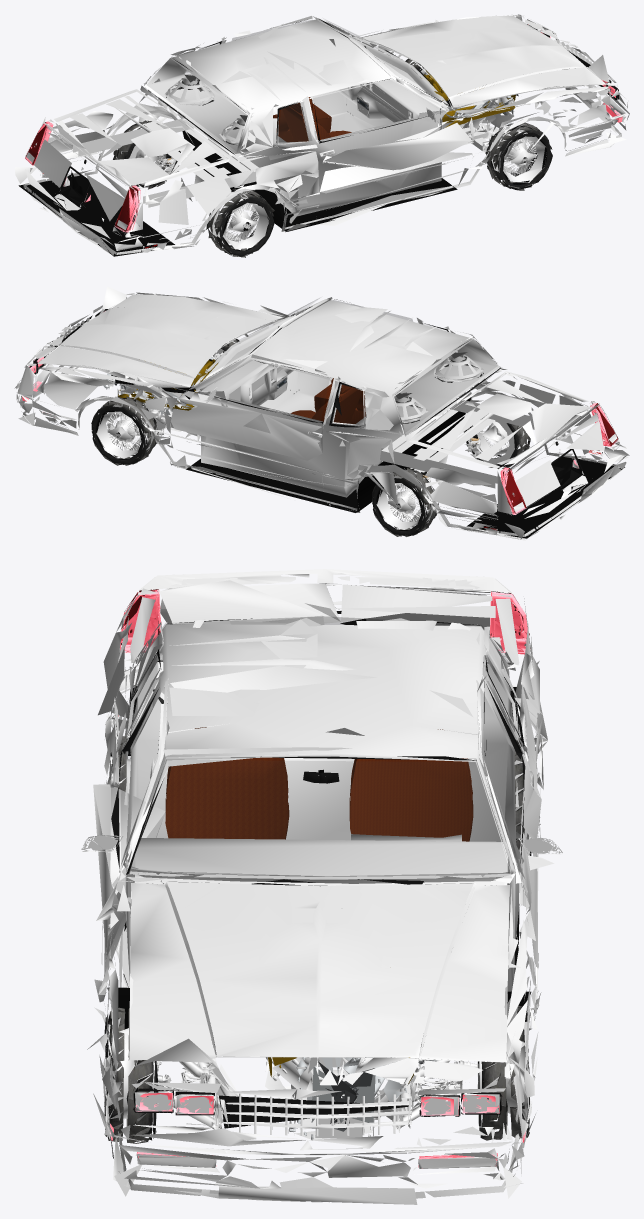
The model's file is lowrider_monte_runtime_rig_ios.glb.
3 renders of one model, top to bottom at view 1: azimuth 30°, elevation 25°; view 2: azimuth 150°, elevation 25°; view 3: azimuth 270°, elevation 25°, orthographic. The views are drawn at different scales.
Visible parts, largest first — view 1: body_paint_0.003, body, hood, windows_glass_0, underbody, r888r_r888r_0.001, r888r_r888r_0, dash, Rear_Frame_Rail_L, seat2_interior_0, r888r_r888r_0.002, Bolt.X8 (+7 smaller); view 2: body_paint_0.003, body, hood, windows_glass_0, underbody, r888r_r888r_0.004, r888r_r888r_0.002, dash, r888r_r888r_0, Rear_Frame_Rail_L, seat1_interior_0, Rear_Frame_Bridge_Main (+7 smaller); view 3: body, hood, body_paint_0.003, windows_glass_0, dash, seat2_interior_0, seat1_interior_0, underbody, spojler, details_glass_lights_0, r888r_r888r_0.001, grille (+5 smaller).
Part boxes in pixels (x1=…): body_paint_0.003: x1=15, y1=14, x2=629, y2=256; body: x1=23, y1=17, x2=628, y2=255; hood: x1=361, y1=15, x2=606, y2=106; windows_glass_0: x1=147, y1=20, x2=447, y2=149; underbody: x1=18, y1=69, x2=518, y2=256; r888r_r888r_0.001: x1=485, y1=122, x2=552, y2=190; r888r_r888r_0: x1=206, y1=189, x2=274, y2=257; dash: x1=337, y1=56, x2=447, y2=122; Rear_Frame_Rail_L: x1=73, y1=117, x2=193, y2=156; seat2_interior_0: x1=282, y1=97, x2=351, y2=141; r888r_r888r_0.002: x1=113, y1=120, x2=180, y2=189; Bolt.X8: x1=164, y1=74, x2=215, y2=105; body_paint_0.003: x1=14, y1=286, x2=629, y2=540; body: x1=17, y1=296, x2=619, y2=536; hood: x1=38, y1=294, x2=283, y2=387; windows_glass_0: x1=195, y1=298, x2=496, y2=431; underbody: x1=99, y1=357, x2=624, y2=538; r888r_r888r_0.004: x1=91, y1=396, x2=158, y2=465; r888r_r888r_0.002: x1=372, y1=467, x2=438, y2=536; dash: x1=195, y1=335, x2=294, y2=405; r888r_r888r_0: x1=464, y1=417, x2=530, y2=468; Rear_Frame_Rail_L: x1=380, y1=448, x2=500, y2=488; seat1_interior_0: x1=291, y1=378, x2=361, y2=423; Rear_Frame_Bridge_Main: x1=413, y1=409, x2=495, y2=472; body: x1=81, y1=618, x2=562, y2=1204; hood: x1=129, y1=881, x2=509, y2=1062; body_paint_0.003: x1=87, y1=580, x2=554, y2=1188; windows_glass_0: x1=121, y1=616, x2=521, y2=880; dash: x1=135, y1=834, x2=508, y2=886; seat2_interior_0: x1=165, y1=727, x2=289, y2=839; seat1_interior_0: x1=349, y1=729, x2=473, y2=841; underbody: x1=107, y1=685, x2=531, y2=1140; spojler: x1=138, y1=569, x2=511, y2=593; details_glass_lights_0: x1=134, y1=1092, x2=499, y2=1168; r888r_r888r_0.001: x1=104, y1=1007, x2=158, y2=1143; grille: x1=223, y1=1093, x2=411, y2=1136.
Bounding box in the file's own units: 4.26 × 1.11 × 1.67.
33 materials, 9 textured.
